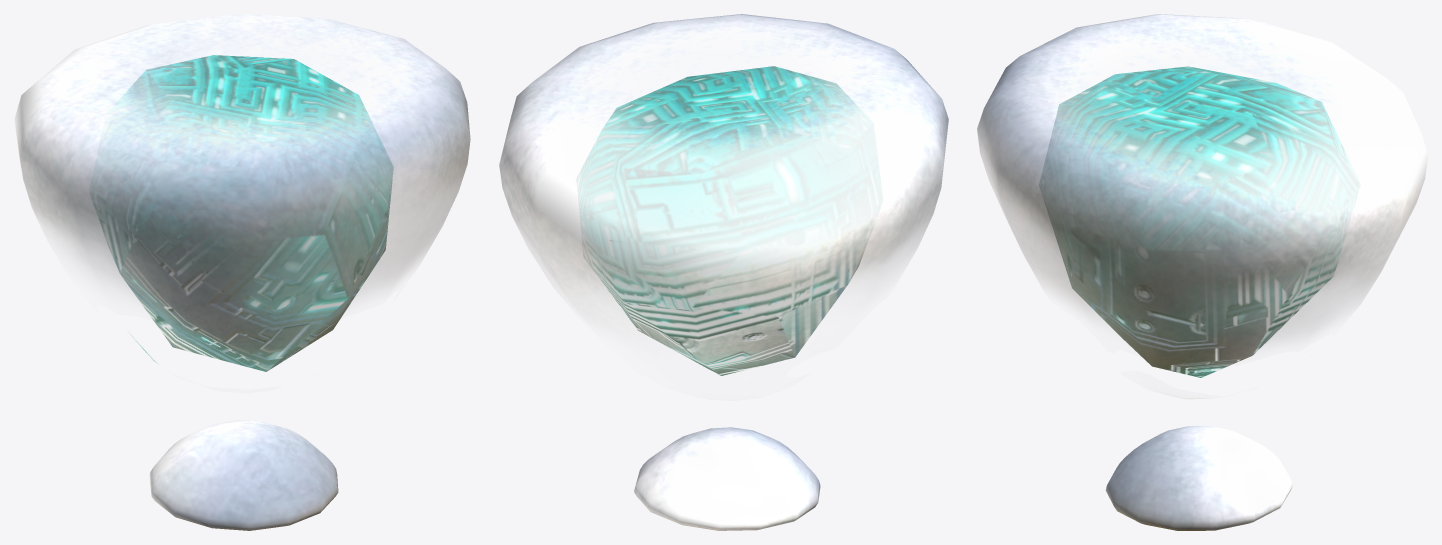
Rendered from SmallCHair.glb.
The picture shows the model from 3 angles, left to right: view 1: azimuth 30°, elevation 25°; view 2: azimuth 150°, elevation 25°; view 3: azimuth 270°, elevation 25°; orthographic projection. The views are drawn at different scales.
Parts seen in each view (by area): view 1: Retopo_球体.001, 棱角球.015, Retopo_球体.006; view 2: Retopo_球体.001, 棱角球.015, Retopo_球体.006; view 3: Retopo_球体.001, 棱角球.015, Retopo_球体.006.
Boxes of the visible parts, x1,y1,x2,y2 form: Retopo_球体.001: [14, 14, 470, 363]; 棱角球.015: [91, 55, 393, 371]; Retopo_球体.006: [149, 420, 338, 530]; Retopo_球体.001: [499, 14, 948, 330]; 棱角球.015: [577, 66, 868, 375]; Retopo_球体.006: [634, 427, 820, 530]; Retopo_球体.001: [977, 14, 1427, 344]; 棱角球.015: [1039, 66, 1344, 377]; Retopo_球体.006: [1105, 426, 1292, 530].
Size of what is drawn, in the model's own units: 2.75 by 2.82 by 2.77.
Materials: 2 (2 with a texture image).
